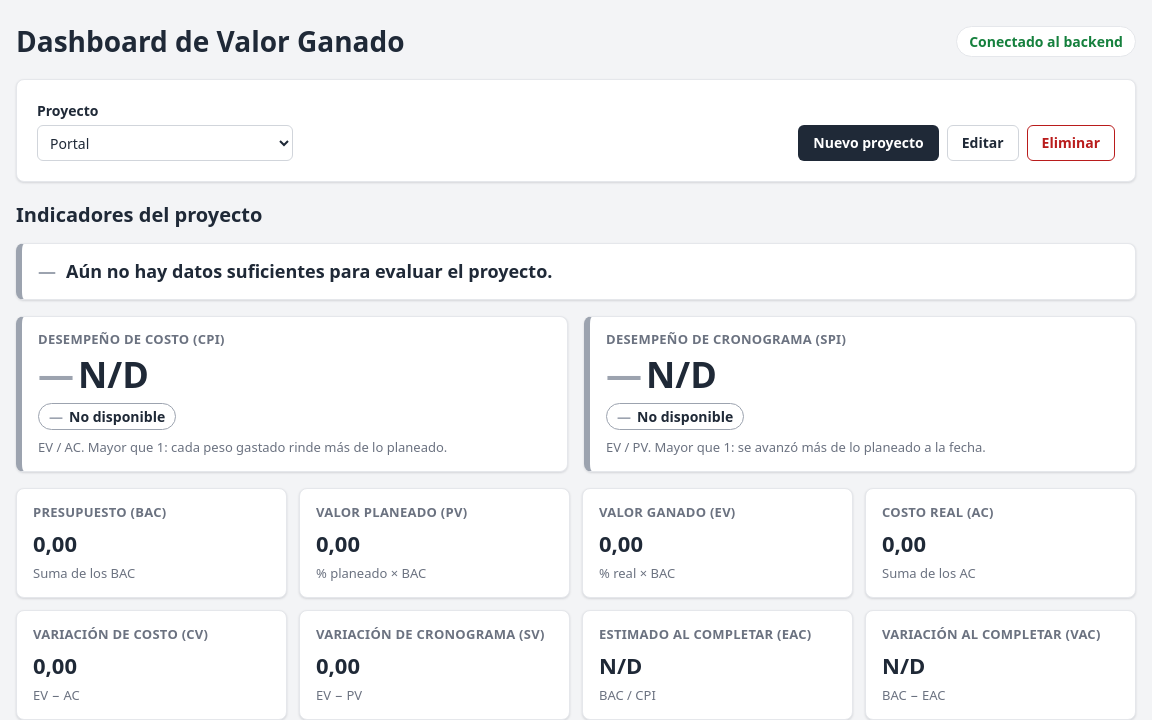
Test: App projects workflow › deletes the project after confirmation and offers to create one when none remain
This screenshot has width=1152, height=720.
Click the button "Eliminar": (1071,143) [1027,125,1115,161]
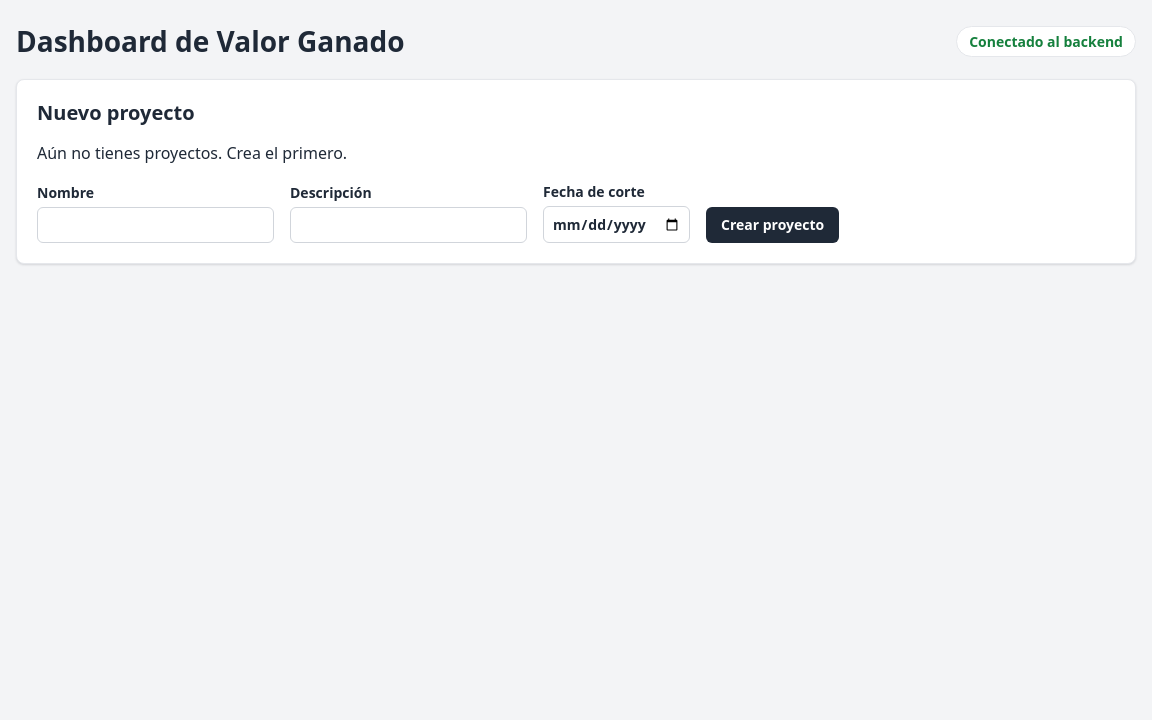
Result: the text "Aún no tienes proyectos. Crea el primero." is shown at [37,142,347,164]
